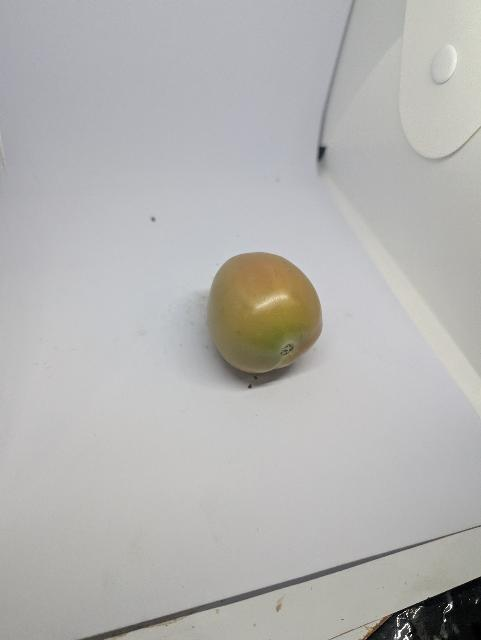breaker: (208, 252, 323, 374)
